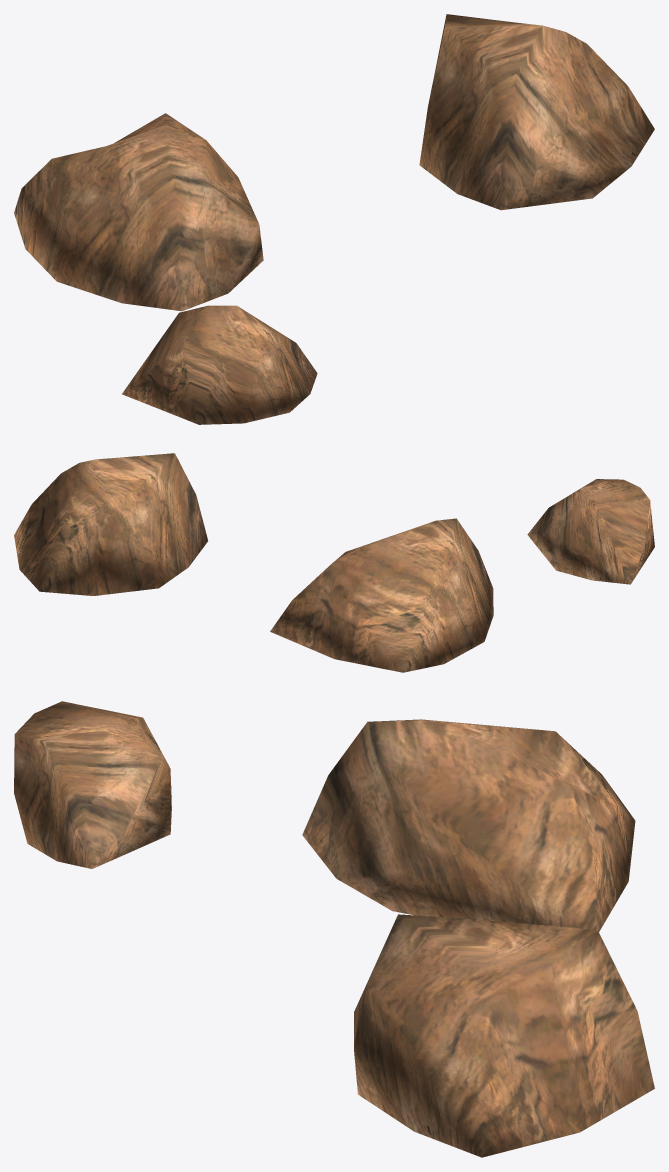
Rendered from rock_tatt_jundland_pebble_a2_l1.fbx.
3 renders of one model, top to bottom at view 1: azimuth 30°, elevation 25°; view 2: azimuth 150°, elevation 25°; view 3: azimuth 270°, elevation 25°, orthographic. The views are drawn at different scales.
Parts seen in each view (by area): view 1: mesh_node; view 2: mesh_node; view 3: mesh_node.
Boxes of the visible parts, bbox=[...] form: mesh_node: bbox=[14, 14, 654, 424]; mesh_node: bbox=[14, 453, 654, 672]; mesh_node: bbox=[14, 701, 654, 1157].
Bounding box in the file's own units: 1.01 × 0.19 × 0.7151.
